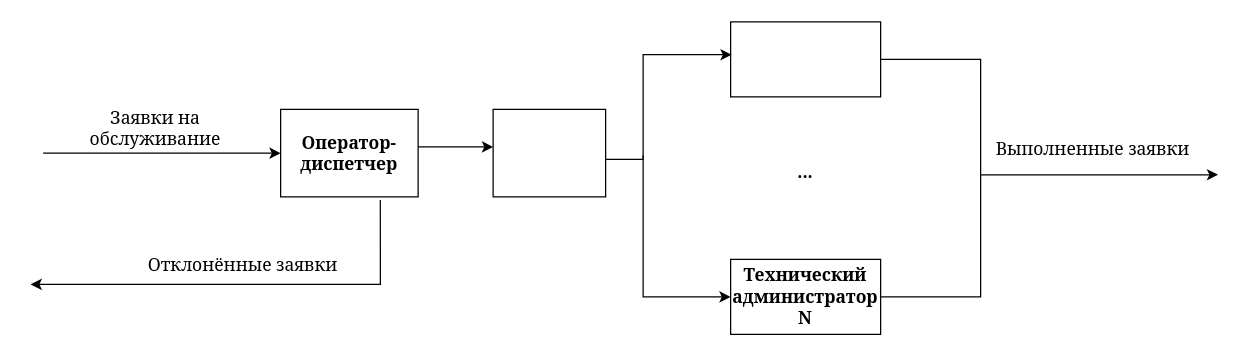
Some shapes in this 1250 by 356 pixel diagram are drawn without their labels. Each missing label, with the centre of its shape:
"Буфер" goes at [549,152].
"Технический администратор 1" goes at [805,59].
